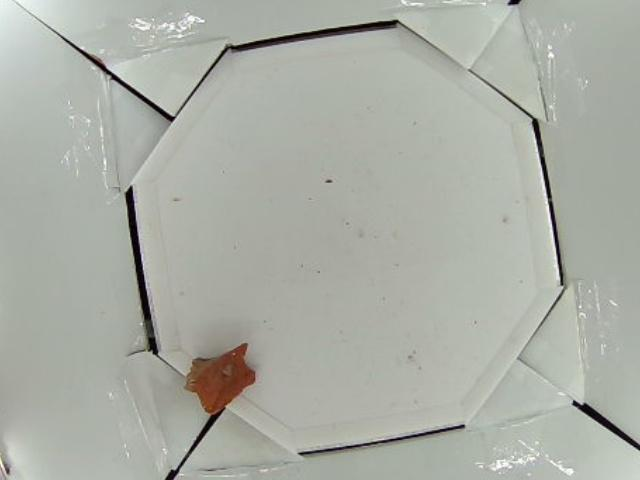Brisk: (185, 341, 257, 417)
